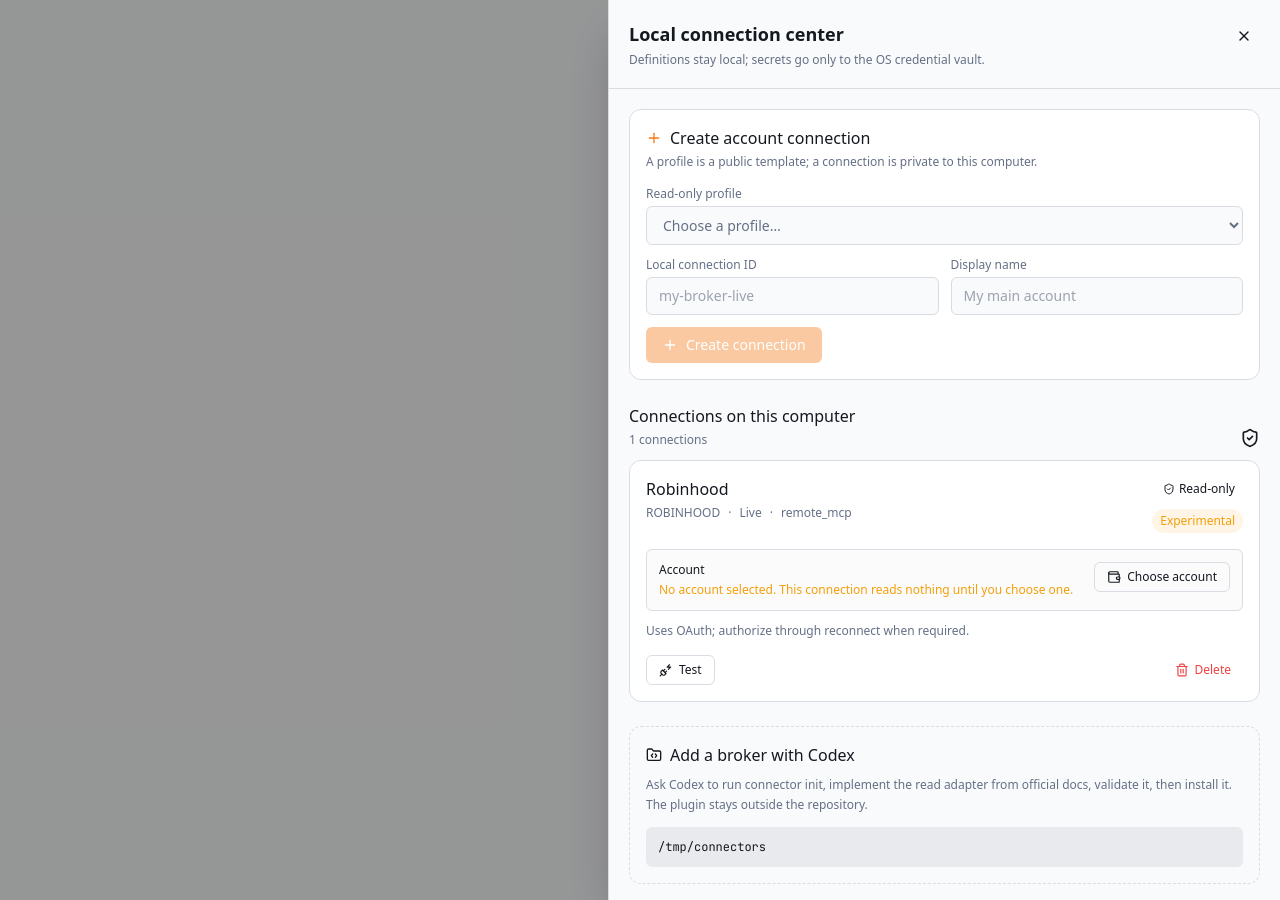
Test case: ConnectionCenter account selection › reports an account list the broker could not return
This screenshot has width=1280, height=900.
Step 1. Click the button "Choose account" → (1162, 577), box left=1094, top=562, right=1230, bottom=592
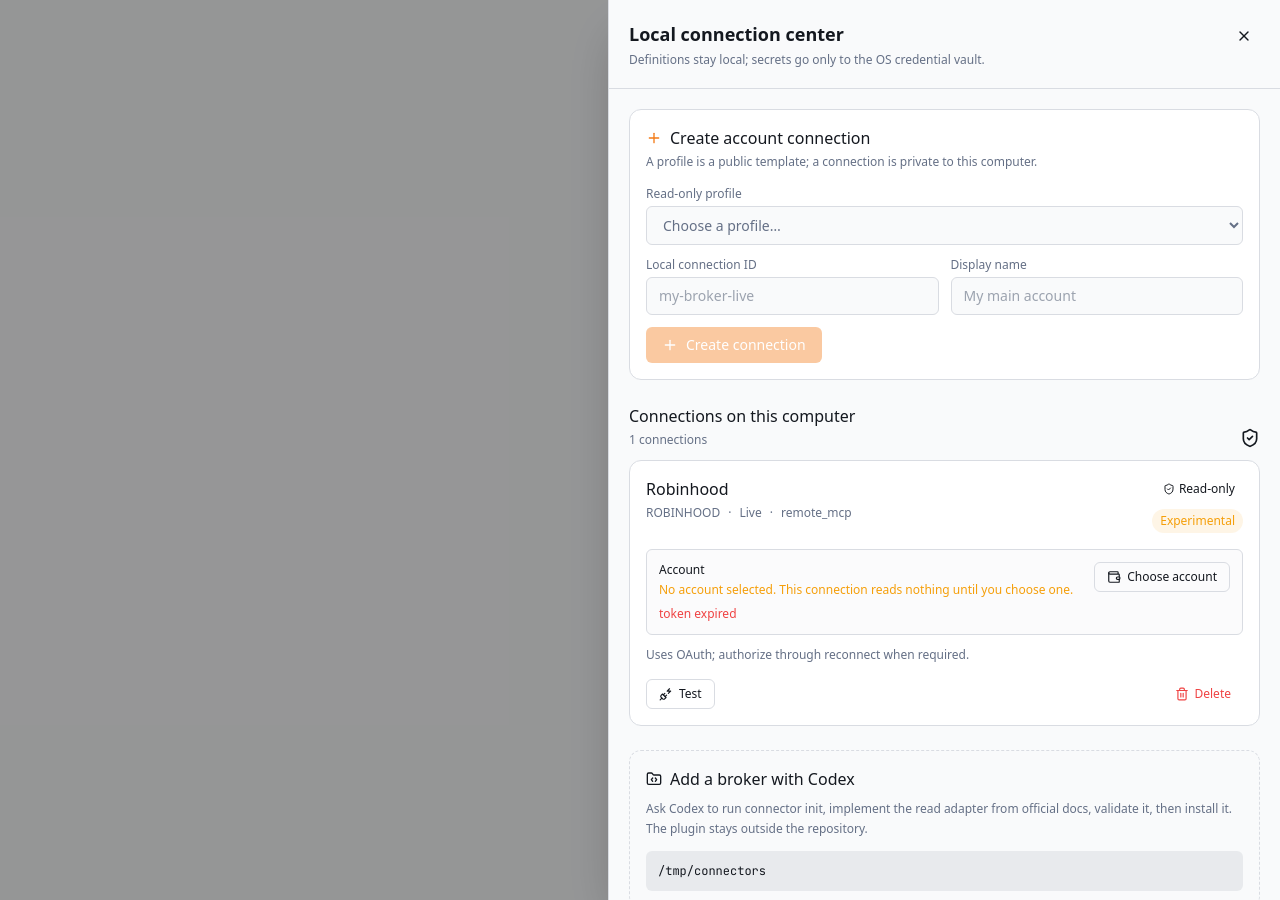
Expected: the message reads "token expired", left=659, top=605, right=736, bottom=622
